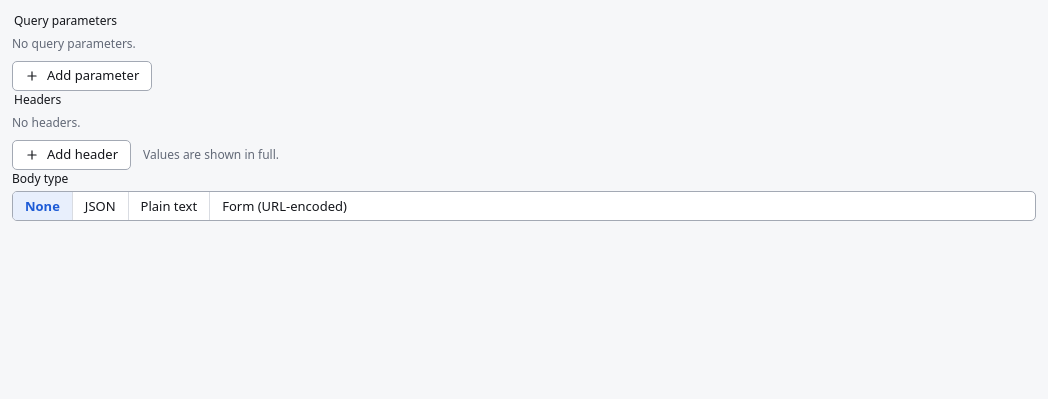
RequestRowsGroup › shows the Body text with its hint for JSON, and hides it for None, keeping the text
The image size is (1048, 399).
Click the radio button named "JSON" at {"x": 100, "y": 206}, box [73, 192, 128, 220]
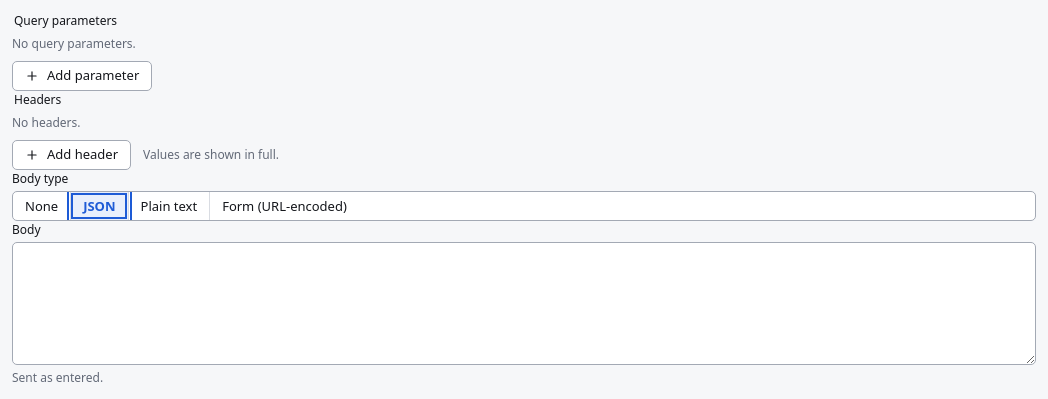
Type "kept text" into the text box labelled "Body" at {"x": 524, "y": 303}, box [12, 242, 1036, 365]
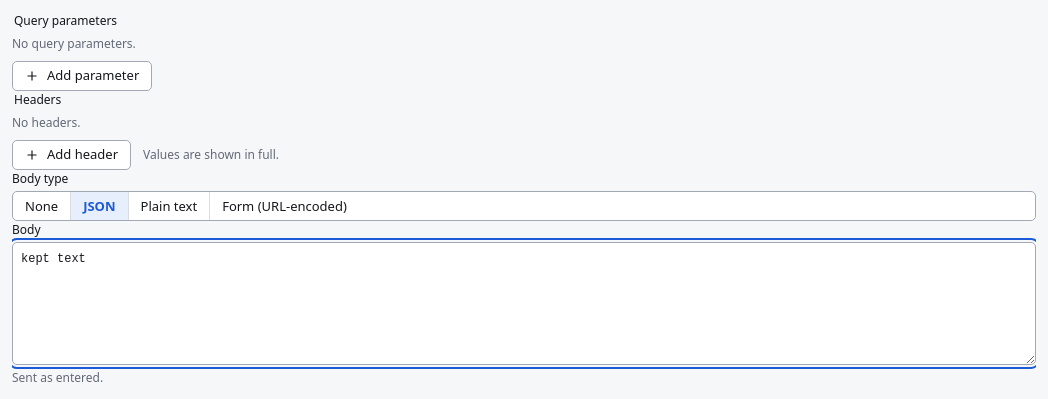
Click the radio button named "None" at {"x": 42, "y": 206}, box [13, 192, 70, 220]
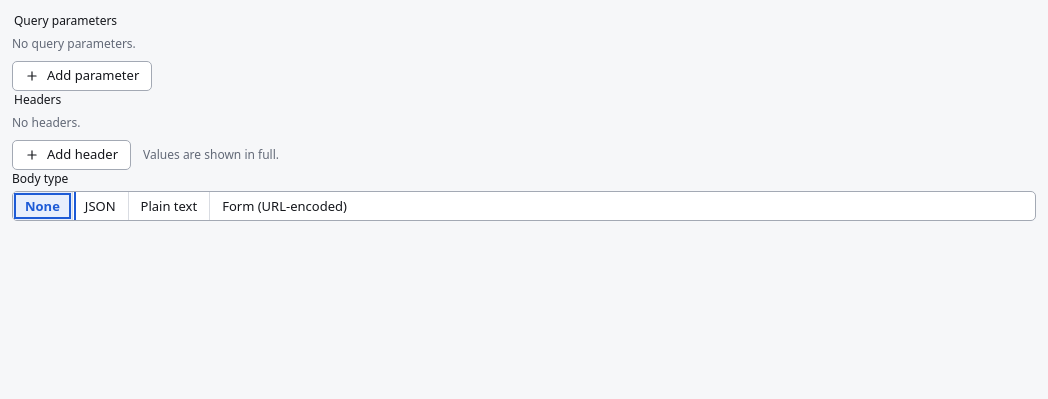
Click the radio button named "JSON" at {"x": 100, "y": 206}, box [73, 192, 128, 220]
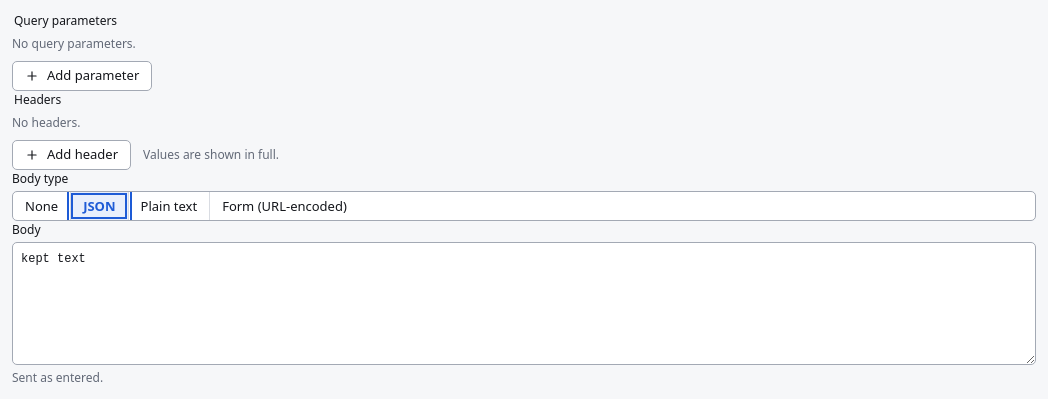
Now the text box labelled "Body" holds "kept text", box [12, 242, 1036, 365]
